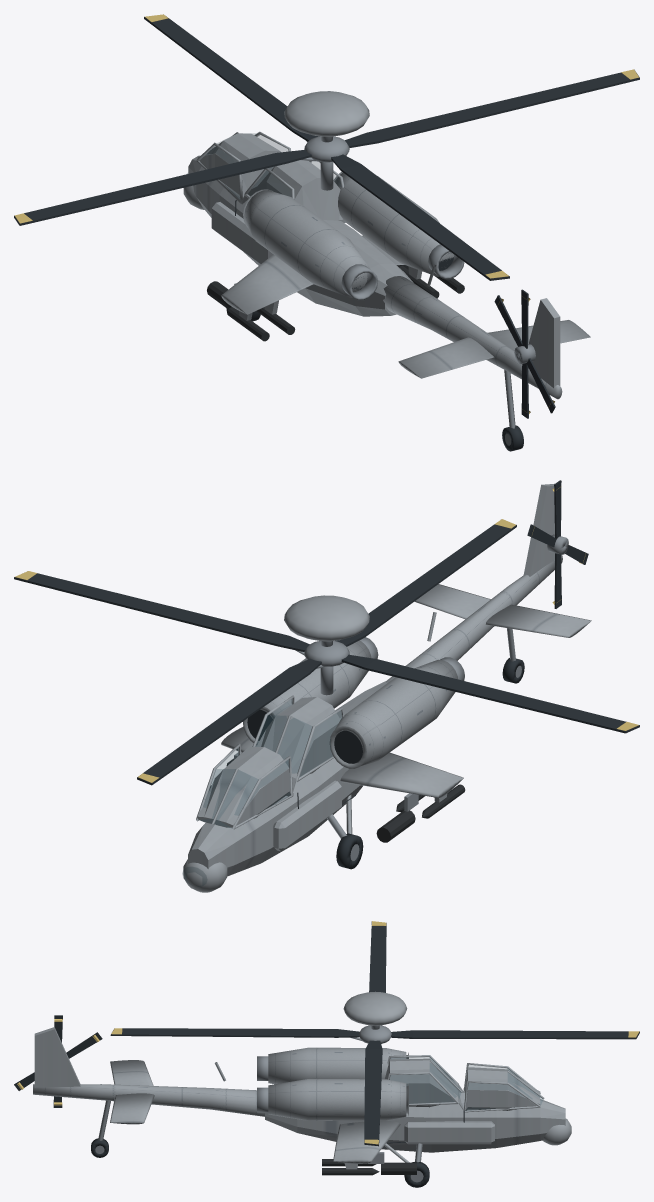
Rendered from wings_ah64d.glb.
3 views of the same model, one above another, from view 1: azimuth 30°, elevation 25°; view 2: azimuth 150°, elevation 25°; view 3: azimuth 270°, elevation 25° (orthographic). The views are drawn at different scales.
Parts seen in each view (by area): view 1: airframe_static, main_rotor_blade_assembly, tail_rotor_blade_assembly; view 2: airframe_static, main_rotor_blade_assembly, tail_rotor_blade_assembly, main_wheel_L, rocket_pod_L; view 3: airframe_static, main_rotor_blade_assembly, tail_rotor_blade_assembly, rocket_pod_R, hellfire_R2, main_wheel_R.
Part boxes in pixels (box(x1,y1,x2,y2)): airframe_static: box(183, 91, 590, 428); main_rotor_blade_assembly: box(14, 14, 639, 280); tail_rotor_blade_assembly: box(494, 289, 555, 418); airframe_static: box(182, 483, 591, 892); main_rotor_blade_assembly: box(14, 519, 639, 785); tail_rotor_blade_assembly: box(527, 480, 588, 608); main_wheel_L: box(336, 833, 363, 869); rocket_pod_L: box(376, 810, 415, 842); airframe_static: box(33, 991, 571, 1169); main_rotor_blade_assembly: box(110, 921, 639, 1146); tail_rotor_blade_assembly: box(14, 1015, 102, 1107); rocket_pod_R: box(381, 1162, 416, 1174); hellfire_R2: box(322, 1168, 379, 1175); main_wheel_R: box(404, 1161, 429, 1187).
Bounding box in the file's own units: 14.6 × 5.16 × 17.27.
6 materials, 1 textured.
